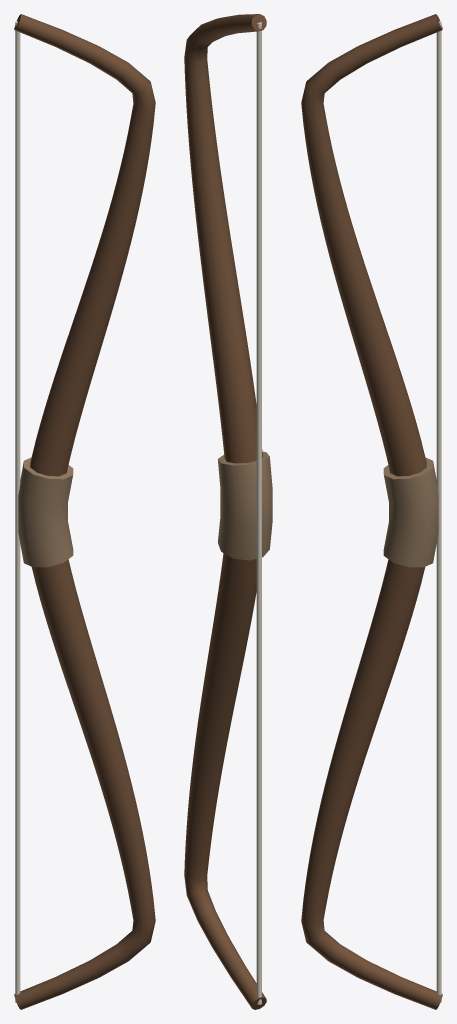
Rendered from лук-скелета.glb.
3 renders of one model, left to right at view 1: azimuth 90°, elevation 25°; view 2: azimuth 210°, elevation 25°; view 3: azimuth 270°, elevation 25°, orthographic.
Parts seen in each view (by area): view 1: Лук; view 2: Лук; view 3: Лук.
Boxes of the visible parts, x1=… form: Лук: x1=14, y1=14, x2=155, y2=1009; Лук: x1=184, y1=14, x2=272, y2=1009; Лук: x1=301, y1=14, x2=442, y2=1009.
Size of the model in its own units: 0.0559 by 1.17 by 0.1501.
